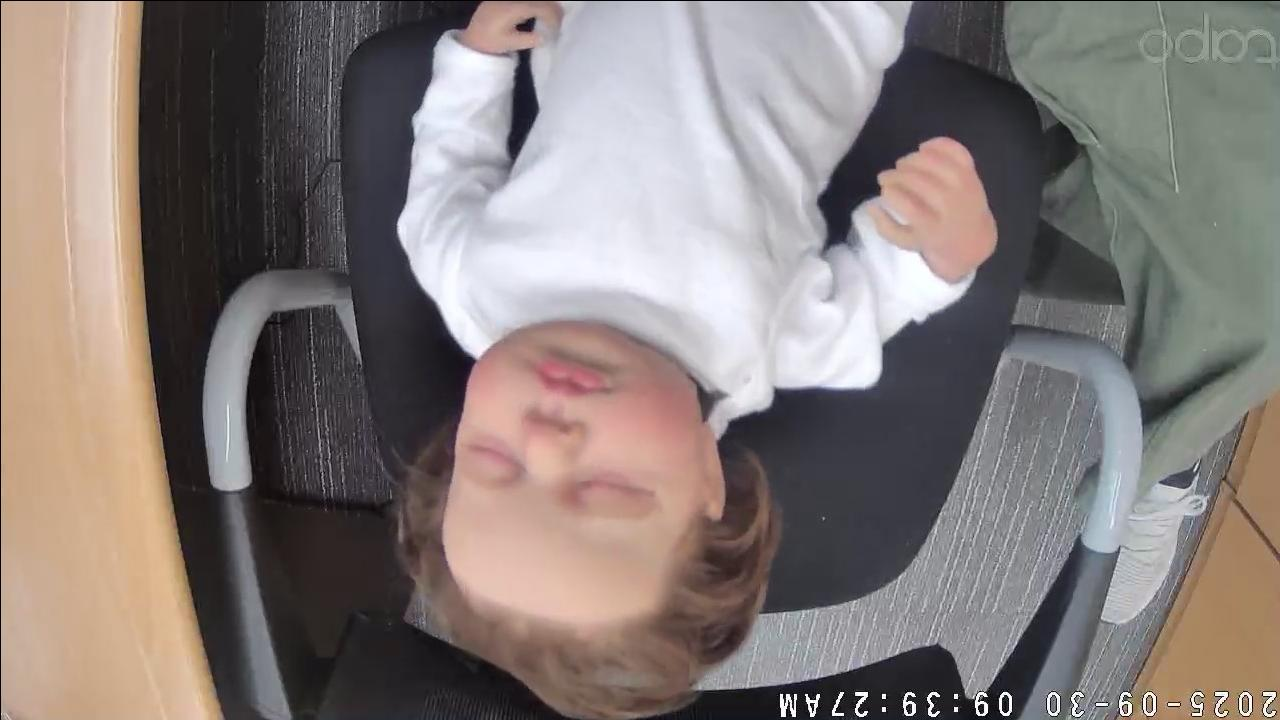hand: (864, 133, 1000, 280), (462, 2, 562, 54)
